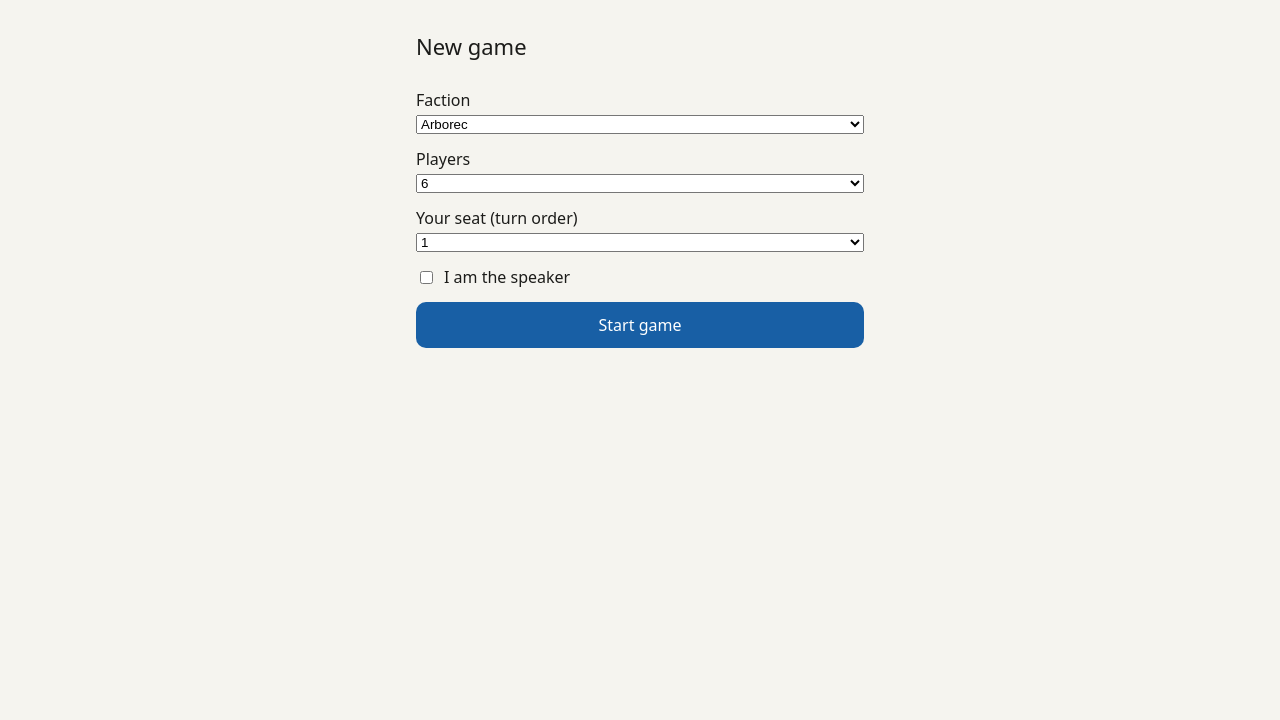
Test: App › routes to the status checklist after advancing there
What coordinates should you click on to do the following:
click the button "Start game"
I would click on:
 (640, 326)
Its box is [416,302,864,348].
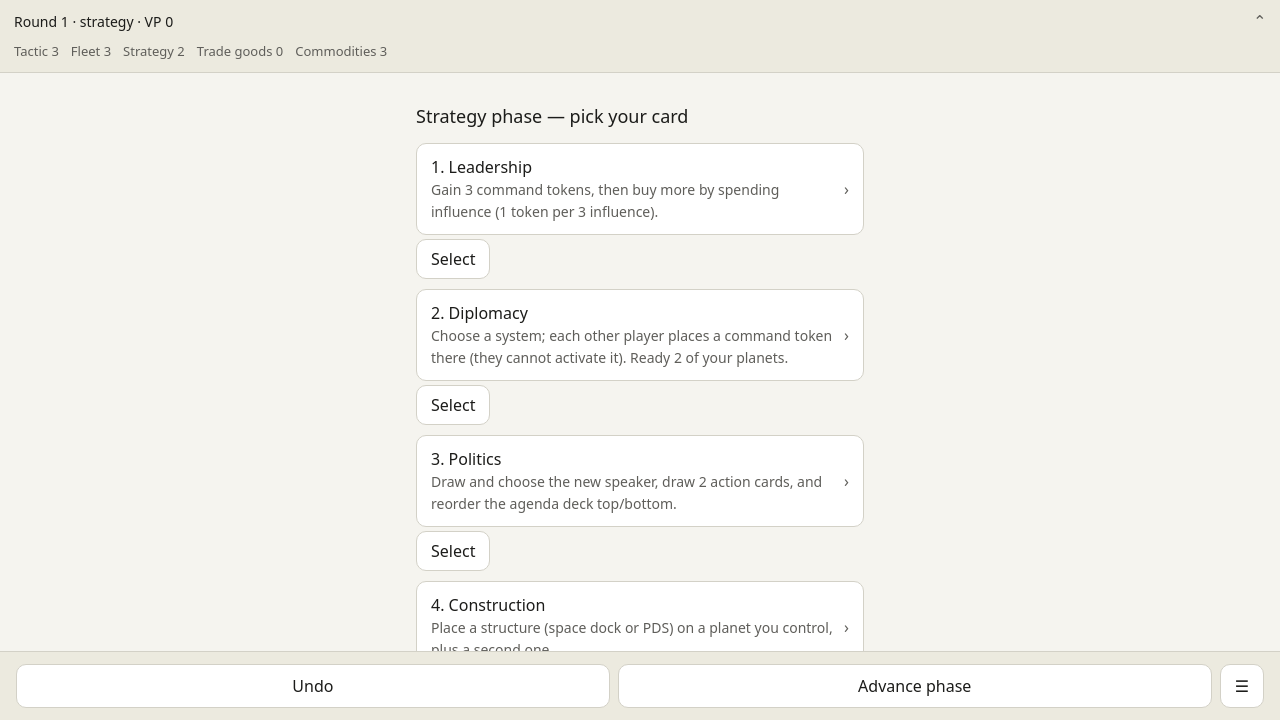
What coordinates should you click on to do the following:
click the button "Advance phase"
I would click on:
 (915, 686)
Its box is [618,664,1212,708].
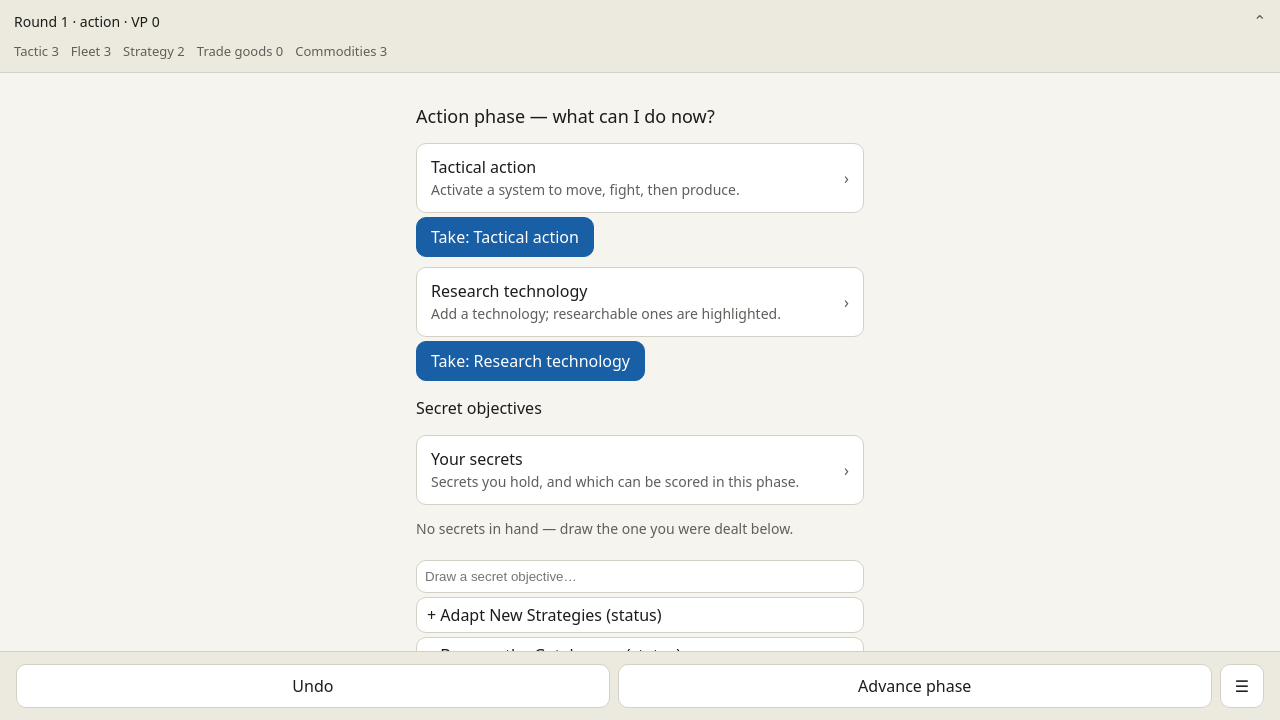
What coordinates should you click on to do the following:
click the button "Advance phase"
I would click on:
 (915, 686)
Its box is [618,664,1212,708].
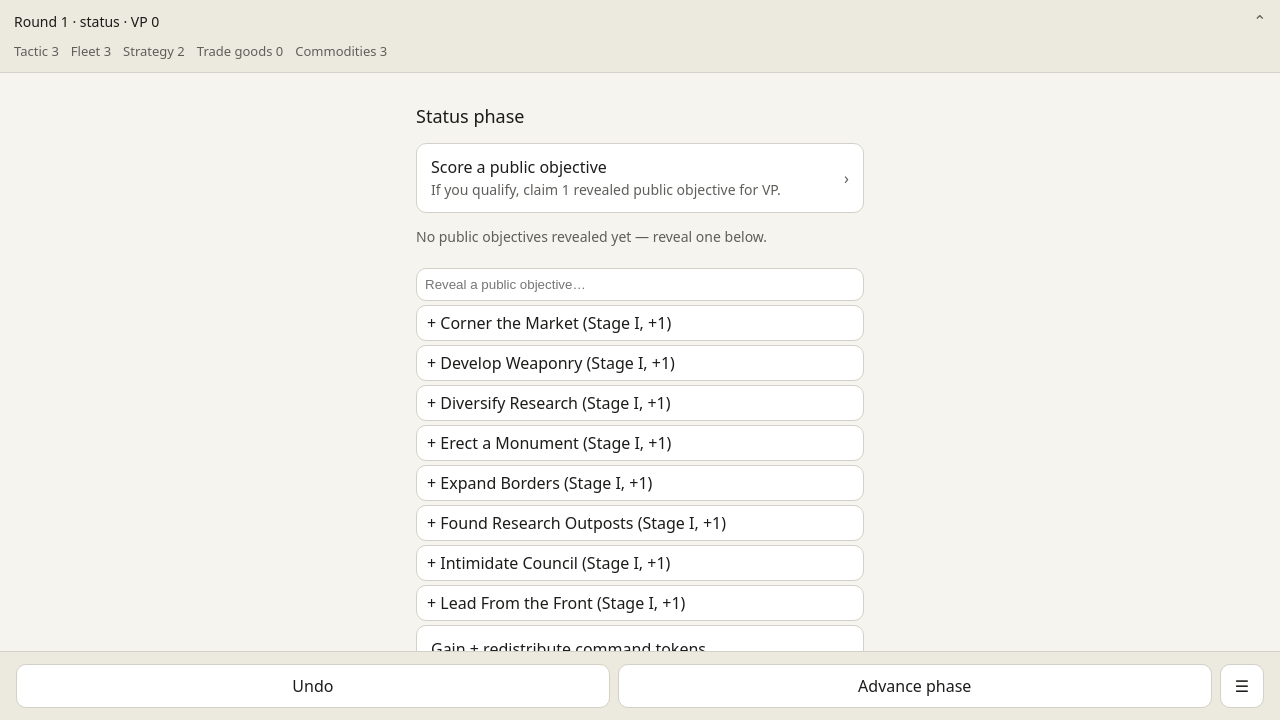
expect the heading "Status phase" is shown: met, box [416,104,524,128]
